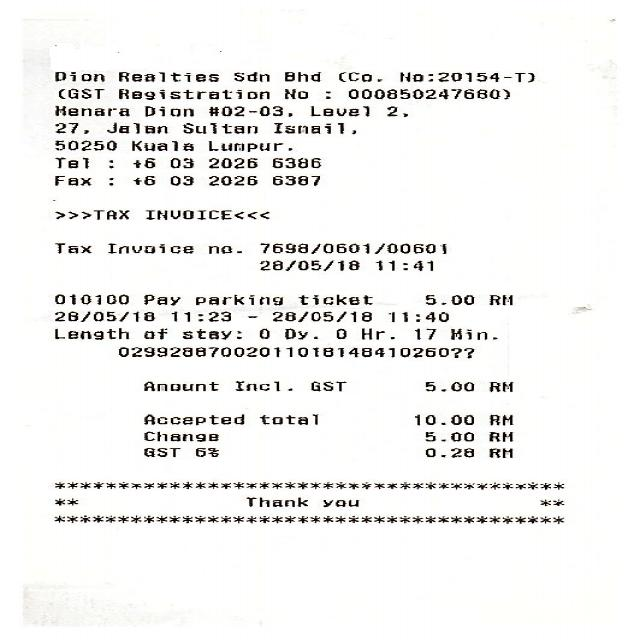text: (114, 346, 472, 358), (345, 87, 508, 99), (117, 87, 267, 99), (396, 70, 532, 82), (258, 241, 366, 253), (142, 412, 242, 424), (53, 310, 152, 322), (271, 310, 369, 322), (114, 70, 216, 81), (258, 259, 358, 270), (142, 208, 229, 220), (194, 293, 279, 305), (106, 241, 190, 253), (207, 139, 290, 151), (207, 105, 290, 116), (141, 379, 215, 391), (272, 122, 352, 133), (52, 327, 125, 339), (374, 241, 443, 253), (179, 122, 254, 133), (52, 105, 126, 116), (141, 430, 215, 441), (52, 293, 125, 304), (296, 294, 369, 304), (168, 310, 228, 322), (410, 412, 470, 424), (386, 310, 445, 322), (256, 412, 315, 424), (103, 122, 166, 133), (232, 379, 289, 391), (53, 139, 114, 150), (307, 105, 367, 116), (130, 139, 190, 150), (179, 328, 238, 339), (372, 259, 429, 270), (268, 156, 319, 168), (207, 156, 255, 168), (424, 379, 472, 391), (244, 497, 307, 506), (268, 174, 319, 185), (56, 87, 102, 99), (52, 70, 101, 81), (143, 105, 191, 116), (207, 174, 255, 185), (448, 328, 496, 339), (423, 294, 473, 304), (424, 430, 472, 440), (424, 447, 472, 457), (337, 70, 379, 81), (90, 208, 126, 220), (53, 241, 89, 253), (143, 293, 178, 305), (280, 327, 315, 339), (308, 379, 343, 391), (282, 70, 318, 81), (52, 156, 85, 168), (53, 174, 89, 185), (231, 70, 266, 81), (361, 327, 392, 339), (52, 122, 85, 133), (143, 446, 178, 456), (280, 87, 304, 99), (168, 156, 192, 168), (207, 244, 239, 253), (141, 327, 165, 339), (487, 379, 511, 391), (487, 412, 511, 424), (320, 499, 355, 507), (130, 156, 152, 168), (168, 174, 192, 185), (486, 293, 509, 304), (410, 328, 433, 339), (486, 430, 509, 441), (130, 174, 152, 185), (487, 447, 511, 457), (385, 105, 405, 116), (194, 446, 215, 456), (333, 328, 344, 339), (255, 328, 267, 338), (106, 159, 109, 168), (106, 177, 109, 185), (243, 315, 255, 317)
